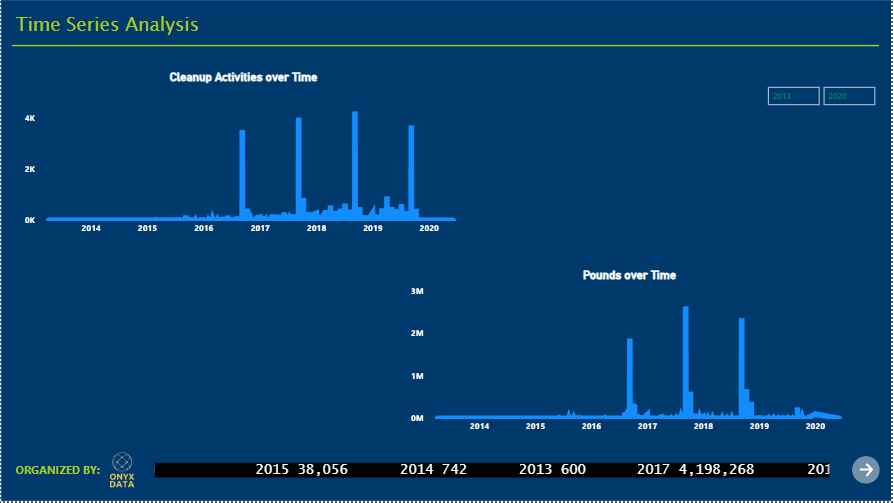

What the dashboard file says about the page in this screenshot:
{"tool":"powerbi","page":{"name":"TIME SERIES","canvas":[1280,720],"ordinal":4},"visuals":[{"type":"shape","box":[0,0,1280.5,720],"z":0},{"type":"shape","box":[15.7,57.1,1245.7,15.7],"z":1000},{"type":"image","box":[144.3,645.7,60,60],"z":2000},{"type":"textbox","box":[15.7,660,141.4,31.4],"z":3000},{"type":"actionButton","box":[1222.9,655.7,40,40],"z":5000},{"type":"ScrollingTextVisual1448795304508","fields":{"Category":["Calendar.Year"],"Measure Absolute":["My Measures.Total pounds"]},"box":[215.7,660,978.6,31.4],"z":6000},{"type":"textbox","box":[15.8,10.1,291.7,54.6],"z":7000},{"type":"areaChart","title":"Cleanup Activities over Time","fields":{"Category":["Onyx Data DataDNA Dataset Challenge - July 2023.Cleanup Date"],"Y":["CountNonNull(Onyx Data DataDNA Dataset Challenge - July 2023.Cleanup Type)"]},"box":[28.7,100.6,639.5,245.7],"z":8000},{"type":"areaChart","title":"Pounds over Time","fields":{"Category":["Onyx Data DataDNA Dataset Challenge - July 2023.Cleanup Date"],"Y":["Sum(Onyx Data DataDNA Dataset Challenge - July 2023.Pounds)"]},"box":[583.5,385.1,639.5,245.7],"z":10000},{"type":"slicer","title":"Cleanup Activities Over Time","fields":{"Values":["Calendar.Year"]},"box":[1089.3,115,173.9,46],"z":10001}]}

Visuals, with their boxes in screenshot pixels (x1, y1, x2, y2), scaled from the page's 1280x720 canvas onto the 894x503 screenshot:
shape: detection(0, 0, 893, 502)
shape: detection(11, 40, 881, 51)
image: detection(101, 451, 143, 493)
textbox: detection(11, 461, 110, 483)
actionButton: detection(854, 458, 882, 486)
ScrollingTextVisual1448795304508 - Calendar.Year x My Measures.Total pounds: detection(151, 461, 834, 483)
textbox: detection(11, 7, 215, 45)
"Cleanup Activities over Time" areaChart: detection(20, 70, 467, 242)
"Pounds over Time" areaChart: detection(408, 269, 854, 441)
"Cleanup Activities Over Time" slicer: detection(761, 80, 882, 112)
